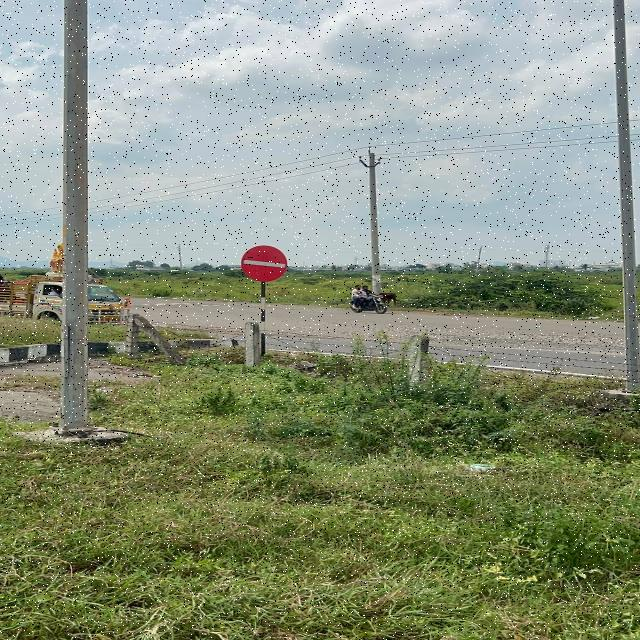No_entry: (226, 237, 301, 288)
